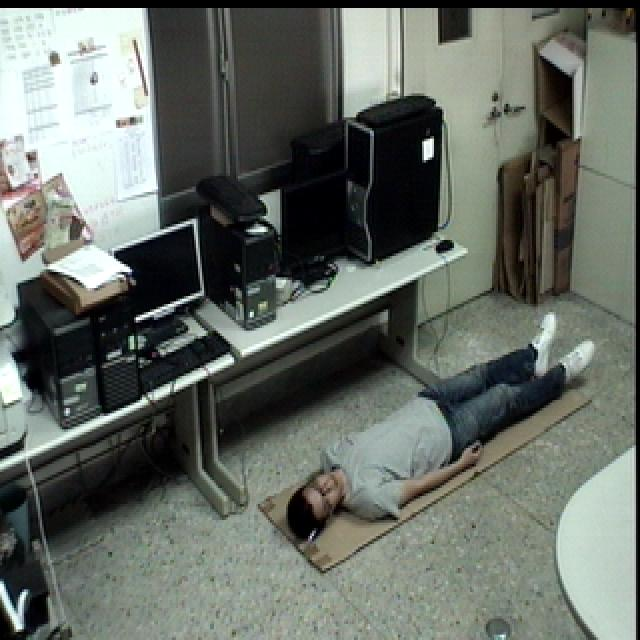lie: (276, 303, 602, 552)
